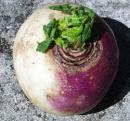turnip: (8, 0, 121, 117)
